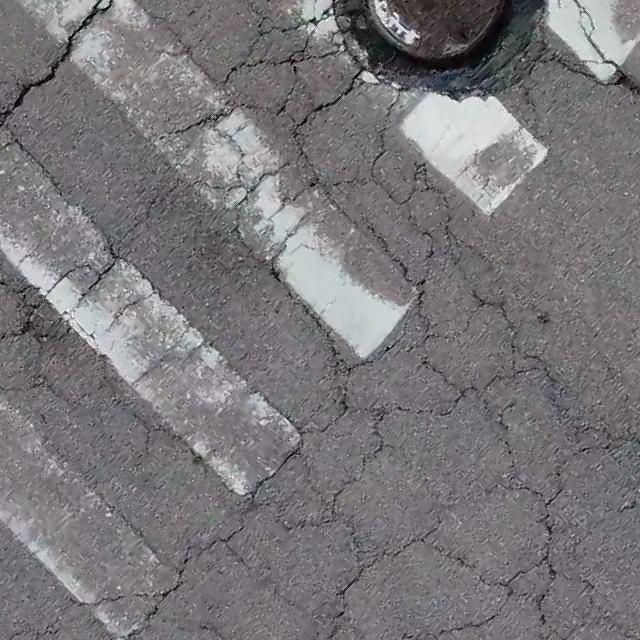GRIETA: (0, 2, 102, 126), (75, 465, 158, 555)
PIEL DE COCODRILO: (0, 0, 639, 639)
